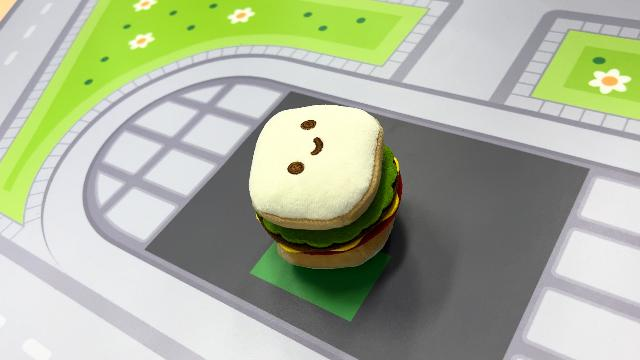sandwich: (247, 102, 405, 270)
